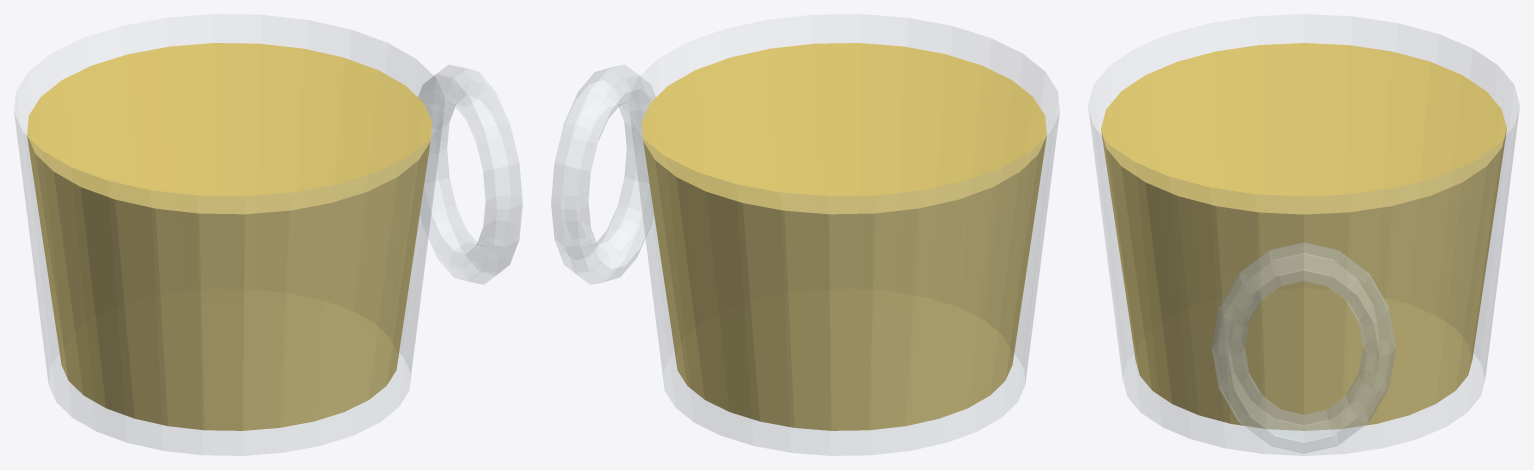
The model's file is glass_teacup.glb.
3 views of the same model, side by side, from view 1: azimuth 30°, elevation 25°; view 2: azimuth 150°, elevation 25°; view 3: azimuth 270°, elevation 25° (orthographic).
Parts seen in each view (by area): view 1: LIQUID_SHAPE, GlassBody, Handle; view 2: LIQUID_SHAPE, GlassBody, Handle; view 3: LIQUID_SHAPE, GlassBody, Handle.
Part boxes in pixels (left/top/right/bottom): LIQUID_SHAPE: left=27, top=43, right=432, bottom=430; GlassBody: left=14, top=14, right=444, bottom=455; Handle: left=418, top=65, right=522, bottom=284; LIQUID_SHAPE: left=641, top=43, right=1046, bottom=430; GlassBody: left=629, top=14, right=1059, bottom=455; Handle: left=551, top=65, right=655, bottom=284; LIQUID_SHAPE: left=1101, top=43, right=1506, bottom=430; GlassBody: left=1088, top=14, right=1519, bottom=455; Handle: left=1212, top=242, right=1395, bottom=453.
Bounding box in the file's own units: 0.118 × 0.07 × 0.1.
